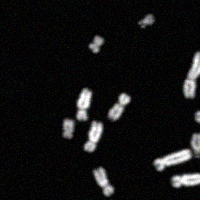chromosome: (153, 148, 192, 171), (182, 53, 200, 99), (106, 93, 132, 121), (93, 168, 114, 197), (83, 119, 102, 150), (75, 88, 92, 120), (171, 173, 200, 190), (61, 118, 76, 142), (89, 33, 104, 56), (138, 13, 156, 30), (191, 133, 200, 160), (195, 108, 200, 127)
